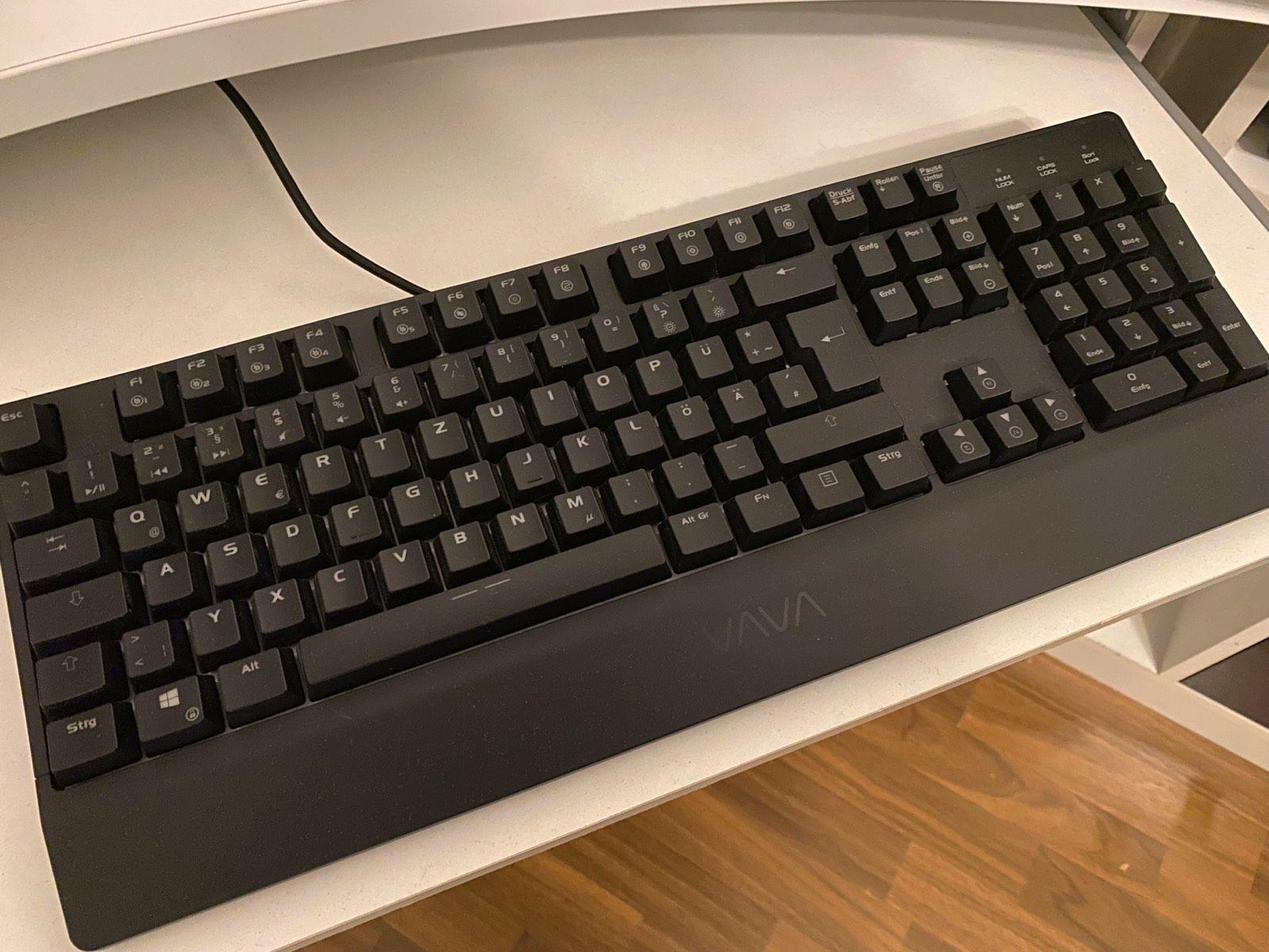0: (588, 305, 638, 350)
1: (64, 446, 119, 501)
2: (128, 431, 182, 483)
3: (190, 413, 243, 466)
4: (252, 395, 304, 447)
5: (312, 378, 364, 430)
6: (370, 364, 423, 413)
7: (428, 348, 478, 397)
8: (482, 333, 534, 382)
9: (535, 318, 587, 365)
a: (139, 547, 192, 604)
accent: (690, 273, 738, 321)
ae: (714, 374, 765, 421)
alt-left: (213, 641, 286, 716)
altgr-right: (663, 498, 733, 555)
b: (434, 516, 489, 570)
c: (312, 555, 367, 612)
caret: (2, 465, 52, 522)
comma: (606, 464, 657, 513)
d: (265, 509, 319, 565)
del: (739, 249, 835, 305)
e: (236, 459, 289, 512)
enter: (784, 296, 880, 390)
f: (328, 491, 380, 545)
g: (387, 474, 441, 525)
h: (446, 456, 499, 506)
hash: (766, 360, 816, 406)
i: (527, 376, 577, 424)
j: (503, 439, 554, 489)
k: (558, 424, 610, 471)
keyboard: (6, 98, 1263, 822)
l: (613, 407, 662, 454)
less: (117, 615, 172, 676)
m: (549, 482, 604, 532)
minus: (710, 432, 762, 478)
n: (493, 499, 546, 551)
o: (580, 362, 630, 409)
oe: (664, 391, 713, 439)
p: (633, 347, 681, 394)
plus: (731, 317, 781, 362)
point: (658, 448, 710, 496)
q: (109, 495, 165, 551)
r: (297, 441, 350, 493)
s: (203, 529, 256, 585)
shift-left: (33, 638, 104, 705)
shift-lock: (22, 566, 126, 642)
shift-right: (760, 390, 903, 463)
space: (282, 512, 674, 693)
ss: (639, 287, 687, 336)
strg-left: (42, 700, 117, 774)
strg-right: (860, 437, 932, 489)
t: (358, 425, 408, 476)
tab: (10, 509, 100, 585)
u: (472, 393, 523, 441)
ue: (683, 330, 731, 377)
v: (374, 536, 431, 591)
w: (174, 477, 226, 530)
x: (249, 575, 304, 632)
y: (186, 596, 239, 654)
z: (416, 409, 467, 458)
